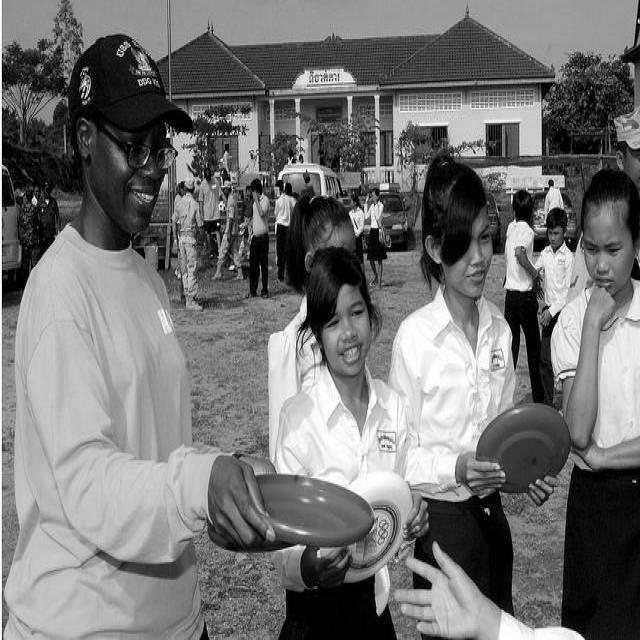vehicle: (278, 164, 348, 208), (278, 163, 347, 203), (529, 191, 579, 246), (1, 163, 23, 283), (382, 192, 410, 245), (486, 195, 502, 241)
